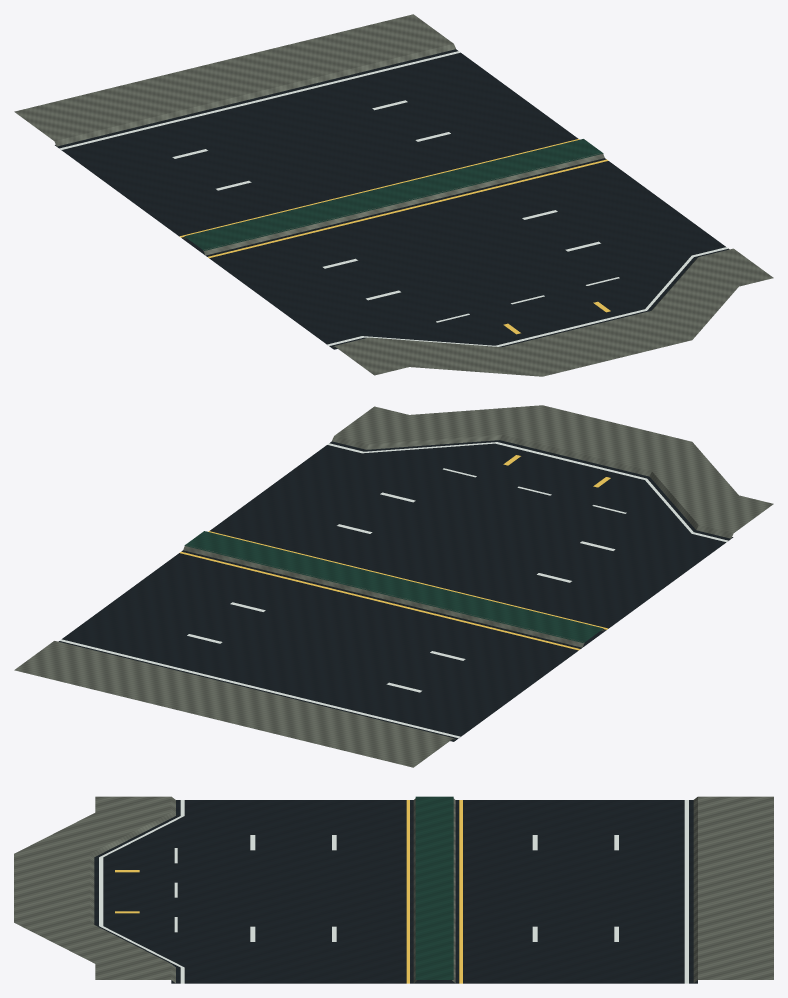
File: road_arterial_6lane_16m_transit_bay_LOD1.glb
3 views of the same model, one above another, from view 1: azimuth 30°, elevation 25°; view 2: azimuth 150°, elevation 25°; view 3: azimuth 270°, elevation 25° (orthographic). The views are drawn at different scales.
Parts seen in each view (by area): view 1: road_arterial_6lane_16m_transit_bay__surface.001, road_arterial_6lane_16m_transit_bay__markings.001; view 2: road_arterial_6lane_16m_transit_bay__surface.001, road_arterial_6lane_16m_transit_bay__markings.001; view 3: road_arterial_6lane_16m_transit_bay__surface.001, road_arterial_6lane_16m_transit_bay__markings.001.
Boxes of the visible parts, <box> form: road_arterial_6lane_16m_transit_bay__surface.001: <box>14,14,773,376</box>; road_arterial_6lane_16m_transit_bay__markings.001: <box>59,51,728,346</box>; road_arterial_6lane_16m_transit_bay__surface.001: <box>14,405,773,767</box>; road_arterial_6lane_16m_transit_bay__markings.001: <box>59,442,728,738</box>; road_arterial_6lane_16m_transit_bay__surface.001: <box>14,796,773,983</box>; road_arterial_6lane_16m_transit_bay__markings.001: <box>99,800,688,983</box>.
Size of the model in its own units: 16 by 0.15 by 28.
6 materials, 4 textured.
